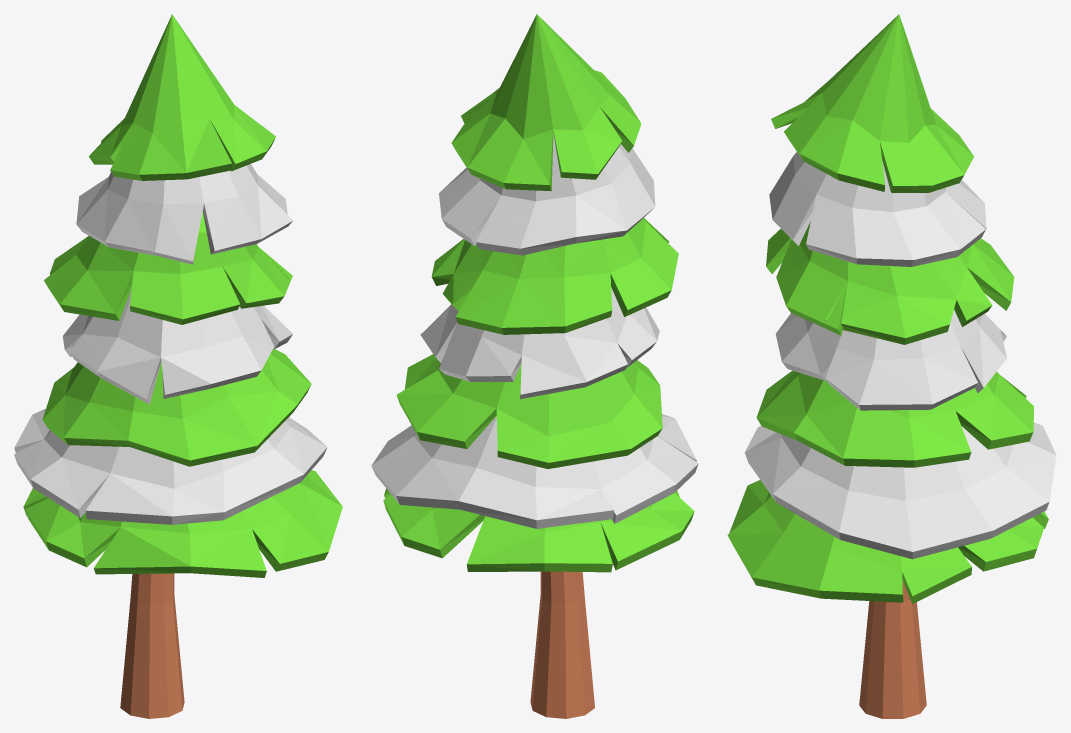
File: Tree_3.fbx
The picture shows the model from 3 angles, left to right: view 1: azimuth 30°, elevation 25°; view 2: azimuth 150°, elevation 25°; view 3: azimuth 270°, elevation 25°; orthographic projection. The views are drawn at different scales.
Visible parts, largest first — view 1: Tree_3; view 2: Tree_3; view 3: Tree_3.
Boxes of the visible parts, x1,y1,x2,y2 form: Tree_3: (14,14,342,718); Tree_3: (371,14,698,718); Tree_3: (727,14,1056,718).
Bounding box in the file's own units: 2.05 × 4.69 × 1.99.
